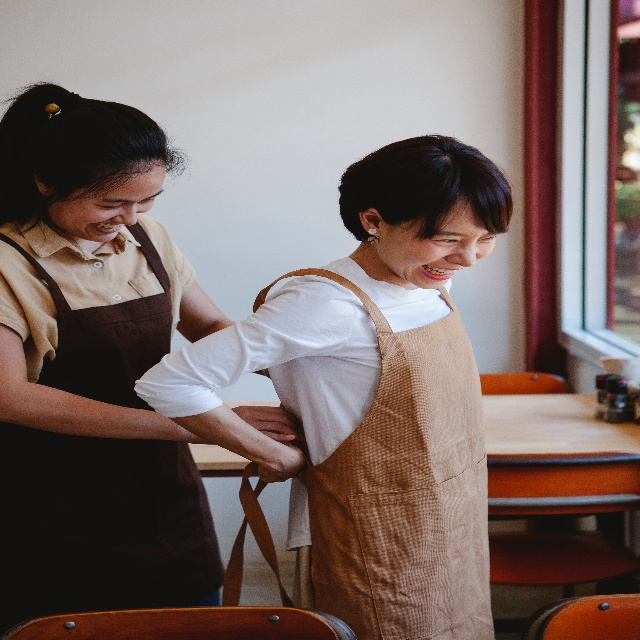Sin_guantes: (231, 405, 305, 443), (257, 443, 304, 483)
